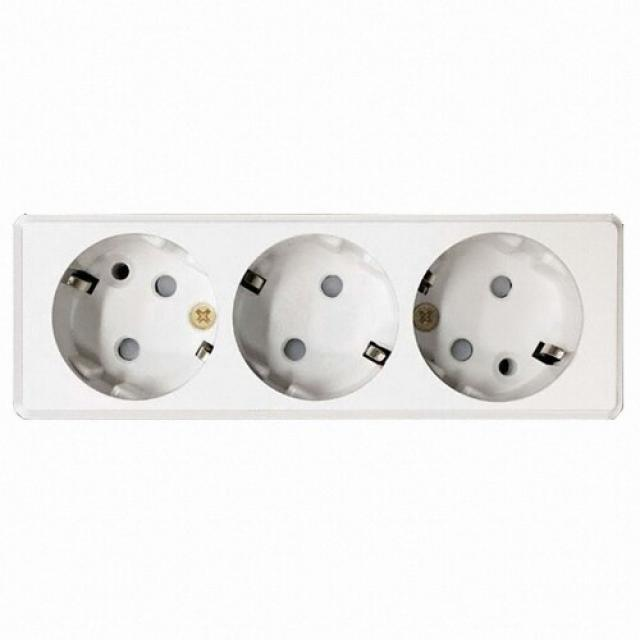typeb: (6, 204, 640, 466)
